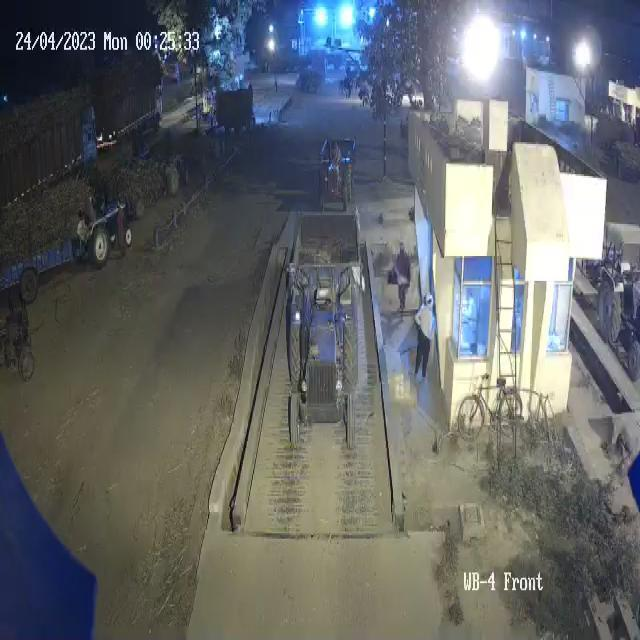Tratores - v5 YOLO V8L 2024-11-13: (282, 262, 362, 457), (80, 180, 138, 252), (316, 160, 354, 217)
